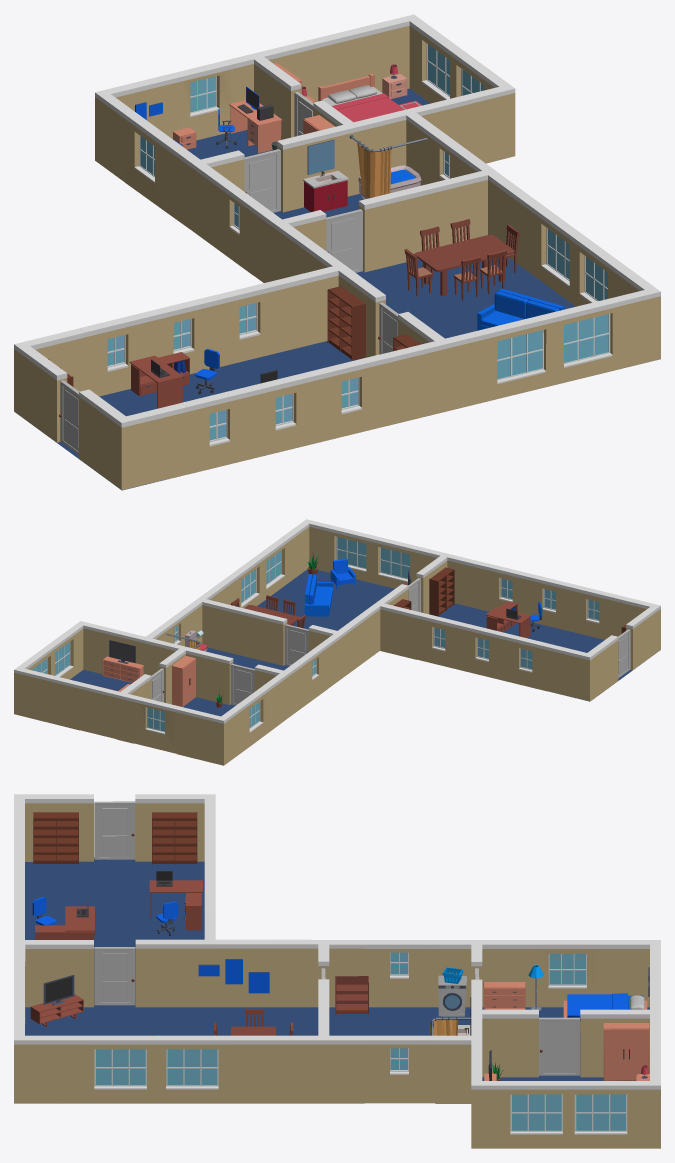
The model's file is FinalLVl2Version.fbx.
The picture shows the model from 3 angles, top to bottom: view 1: azimuth 30°, elevation 25°; view 2: azimuth 150°, elevation 25°; view 3: azimuth 270°, elevation 25°; orthographic projection. The views are drawn at different scales.
Parts seen in each view (by area): view 1: floor, double windowWall, corner.001, corner.006, corner.004, corner.002, corner.012, double windowWall.001, corner.003, wallWindow.003, wallWindow.004, wallWindow.005 (+36 smaller); view 2: floor, double windowWall, corner.002, corner.010, corner.012, corner.006, double windowWall.001, corner.001, corner.004, wall, corner.003, wallWindow (+36 smaller); view 3: floor, double windowWall.001, TwoWindowWall, corner.006, corner.003, corner.005, wallWindow.006, windowWall, BigWindow, corner.004, Wall.002, corner.007 (+29 smaller).
Part boxes in pixels (x1,y1,x2,y2): floor: (15,88,575,490); double windowWall: (483,297,621,400); corner.001: (79,389,187,489); corner.006: (427,168,545,277); corner.004: (380,312,450,426); corner.002: (14,328,85,442); corner.012: (314,14,426,92); double windowWall.001: (536,208,622,306); corner.003: (278,264,385,357); wallWindow.003: (182,386,253,474); wallWindow.004: (248,370,319,458); wallWindow.005: (314,354,385,442); floor: (70,569,655,716); double windowWall: (328,525,419,588); corner.002: (547,635,618,701); corner.010: (177,704,243,765); corner.012: (14,663,83,730); corner.006: (196,574,241,654); double windowWall.001: (231,537,288,608); corner.001: (614,595,660,670); corner.004: (416,553,486,614); wall: (238,608,287,665); corner.003: (374,584,419,659); wallWindow: (503,633,550,691); floor: (25,857,649,1080); double windowWall.001: (84,1035,228,1103); TwoWindowWall: (502,1081,637,1148); corner.006: (228,1010,329,1103); corner.003: (135,914,215,1007); corner.005: (14,1022,84,1103); wallWindow.006: (364,1035,435,1103); windowWall: (364,940,435,1007); BigWindow: (531,940,603,1007); corner.004: (14,914,93,1007); Wall.002: (482,1009,538,1077); corner.007: (275,939,329,1007).
Bounding box in the file's own units: 17.53 × 1.86 × 16.46.
Materials: 3 (2 with a texture image).
